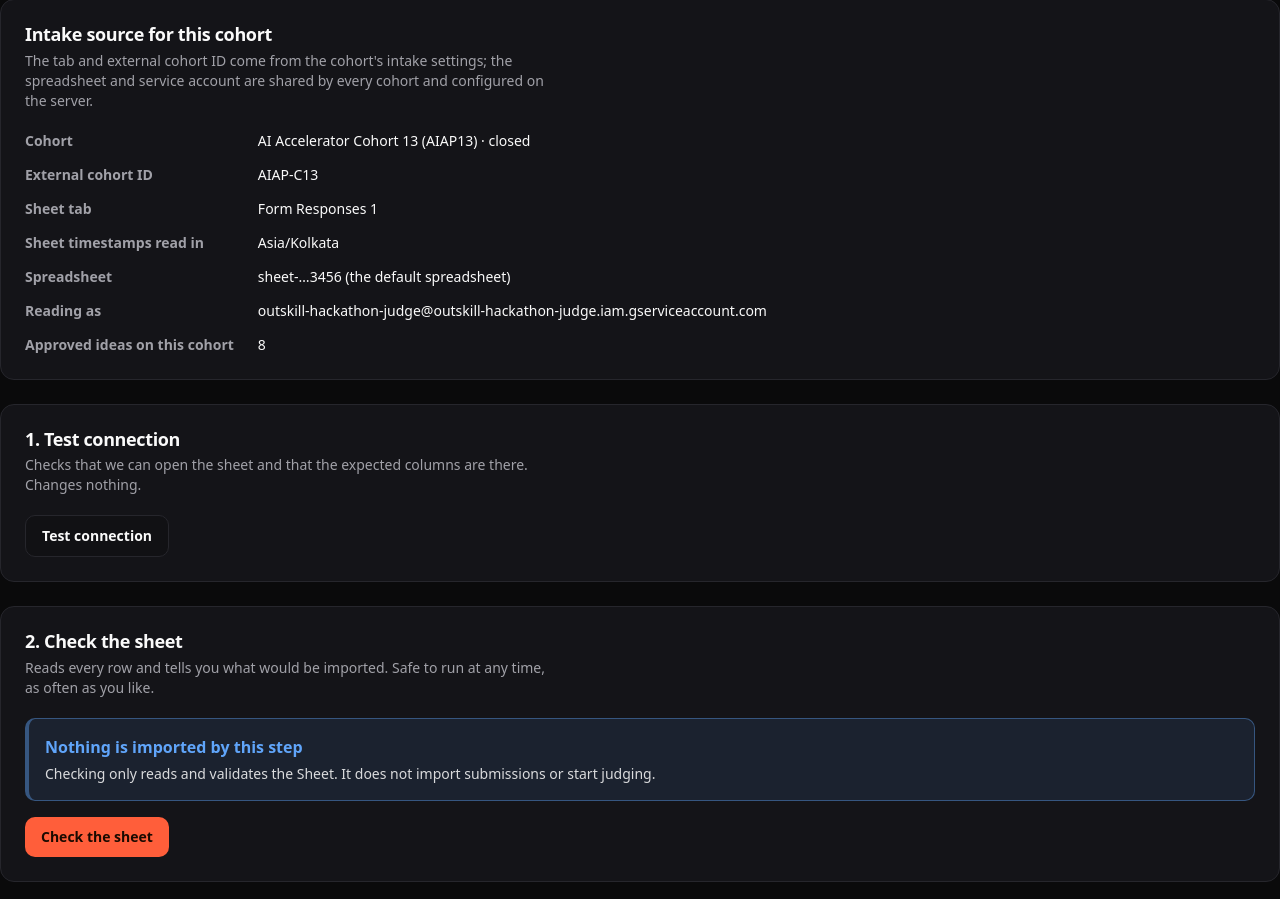
it: after checking the sheet › warns when an imported group has since changed in the sheet
Click the button "Check the sheet". click: (97, 837)
box: [25,817,169,857]
(page scrolled)
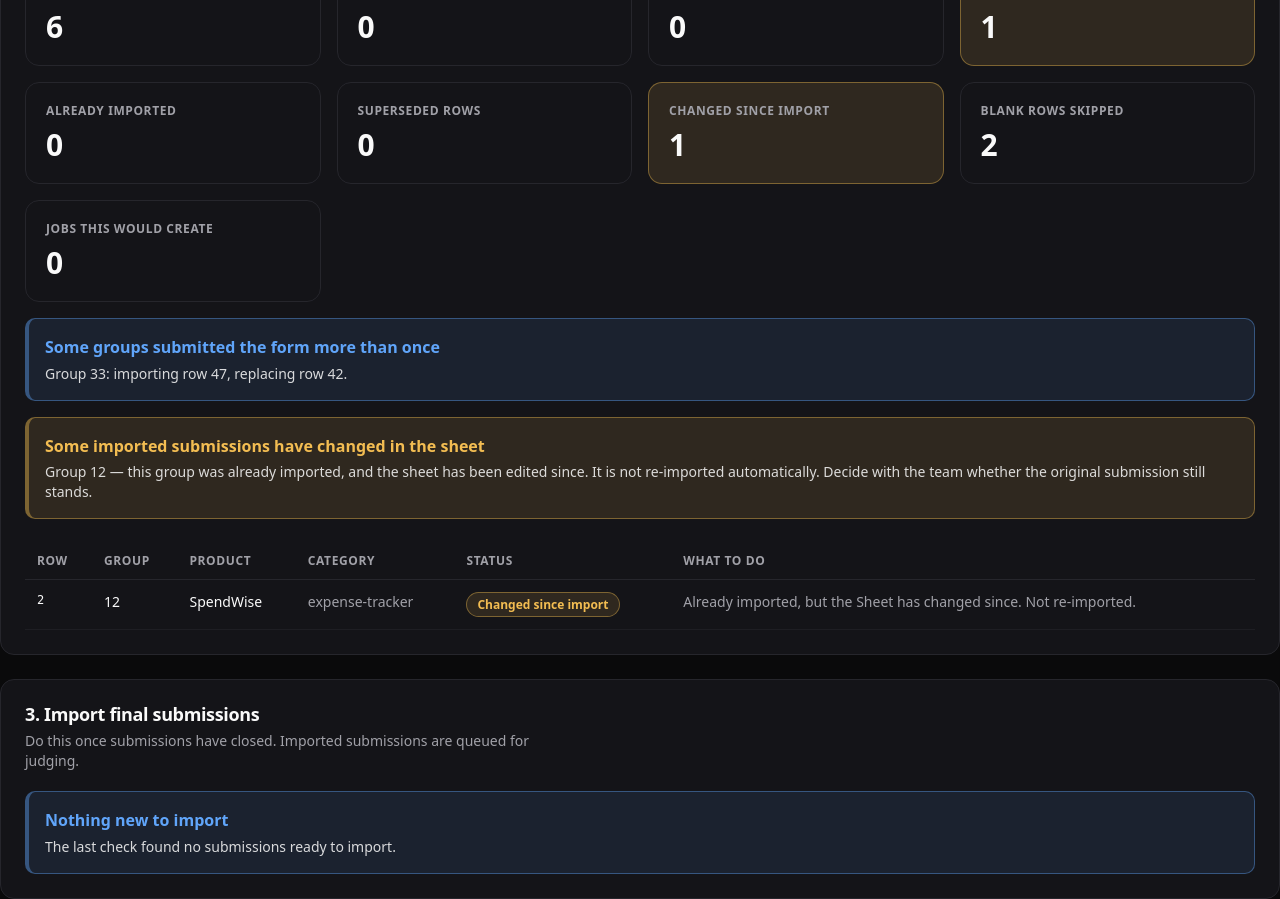
Expected: the text "Some imported submissions have changed in the sheet" is shown, [45,435,485,457]
Expected: the text "not re-imported" is shown, [45,462,1205,502]
